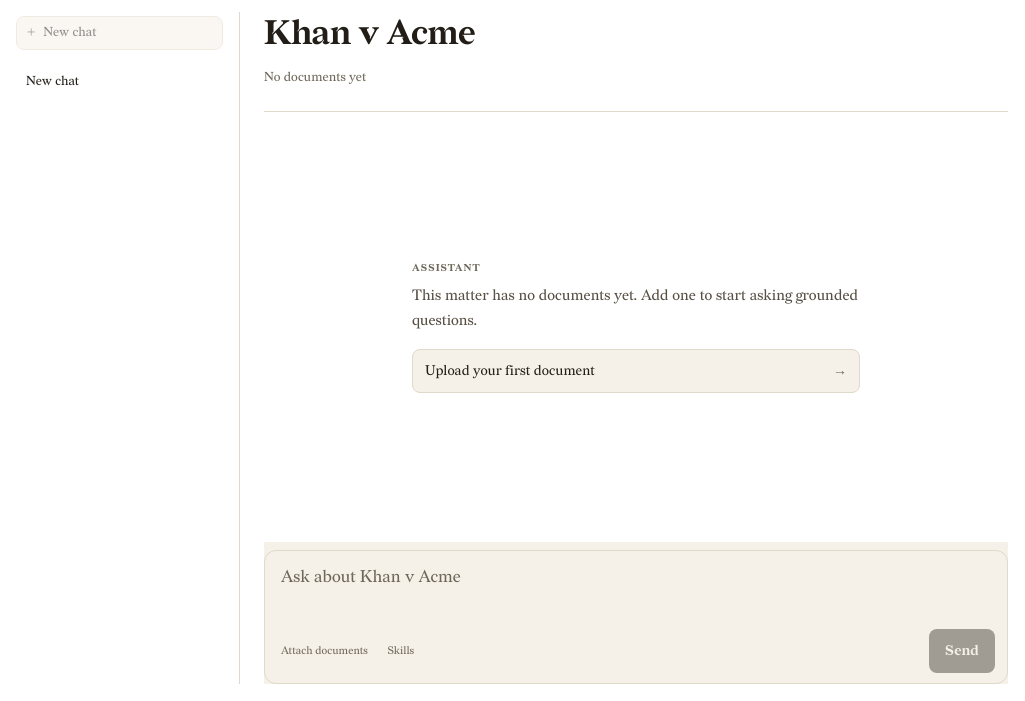
AssistantTab — in-chat skill picker › does not expose legacy built-in workflows in the chat picker
Click the button with test id "chat-skills-toggle" at {"x": 401, "y": 651}, box [380,639,422,663]
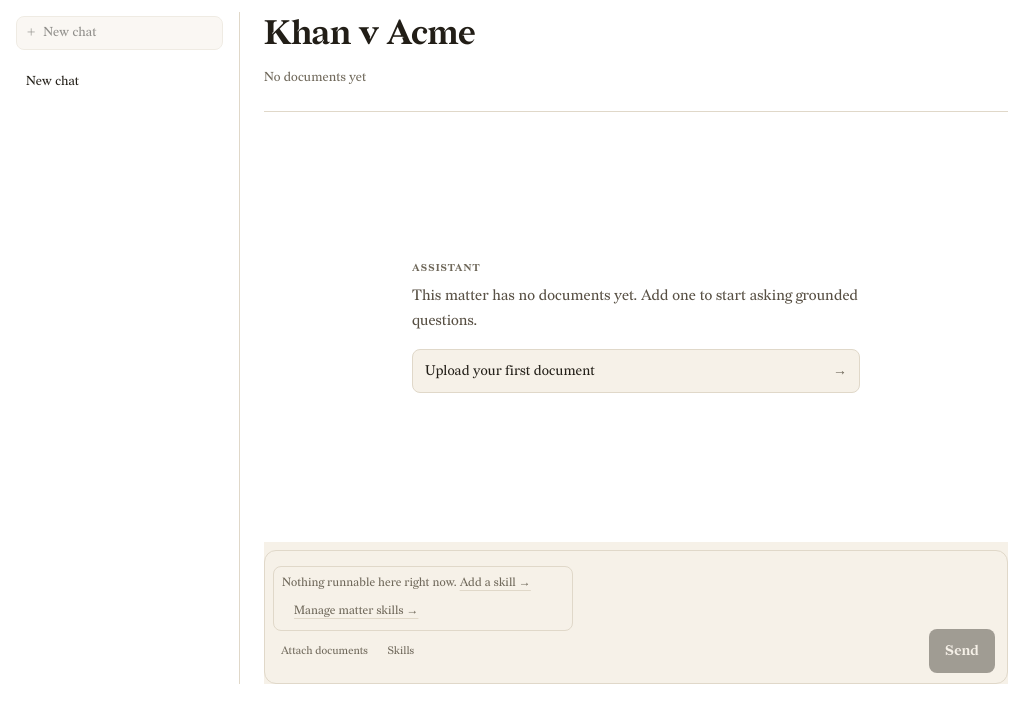
Expected: the menu with test id "chat-skills-popover" is shown, [273,566,573,631]
